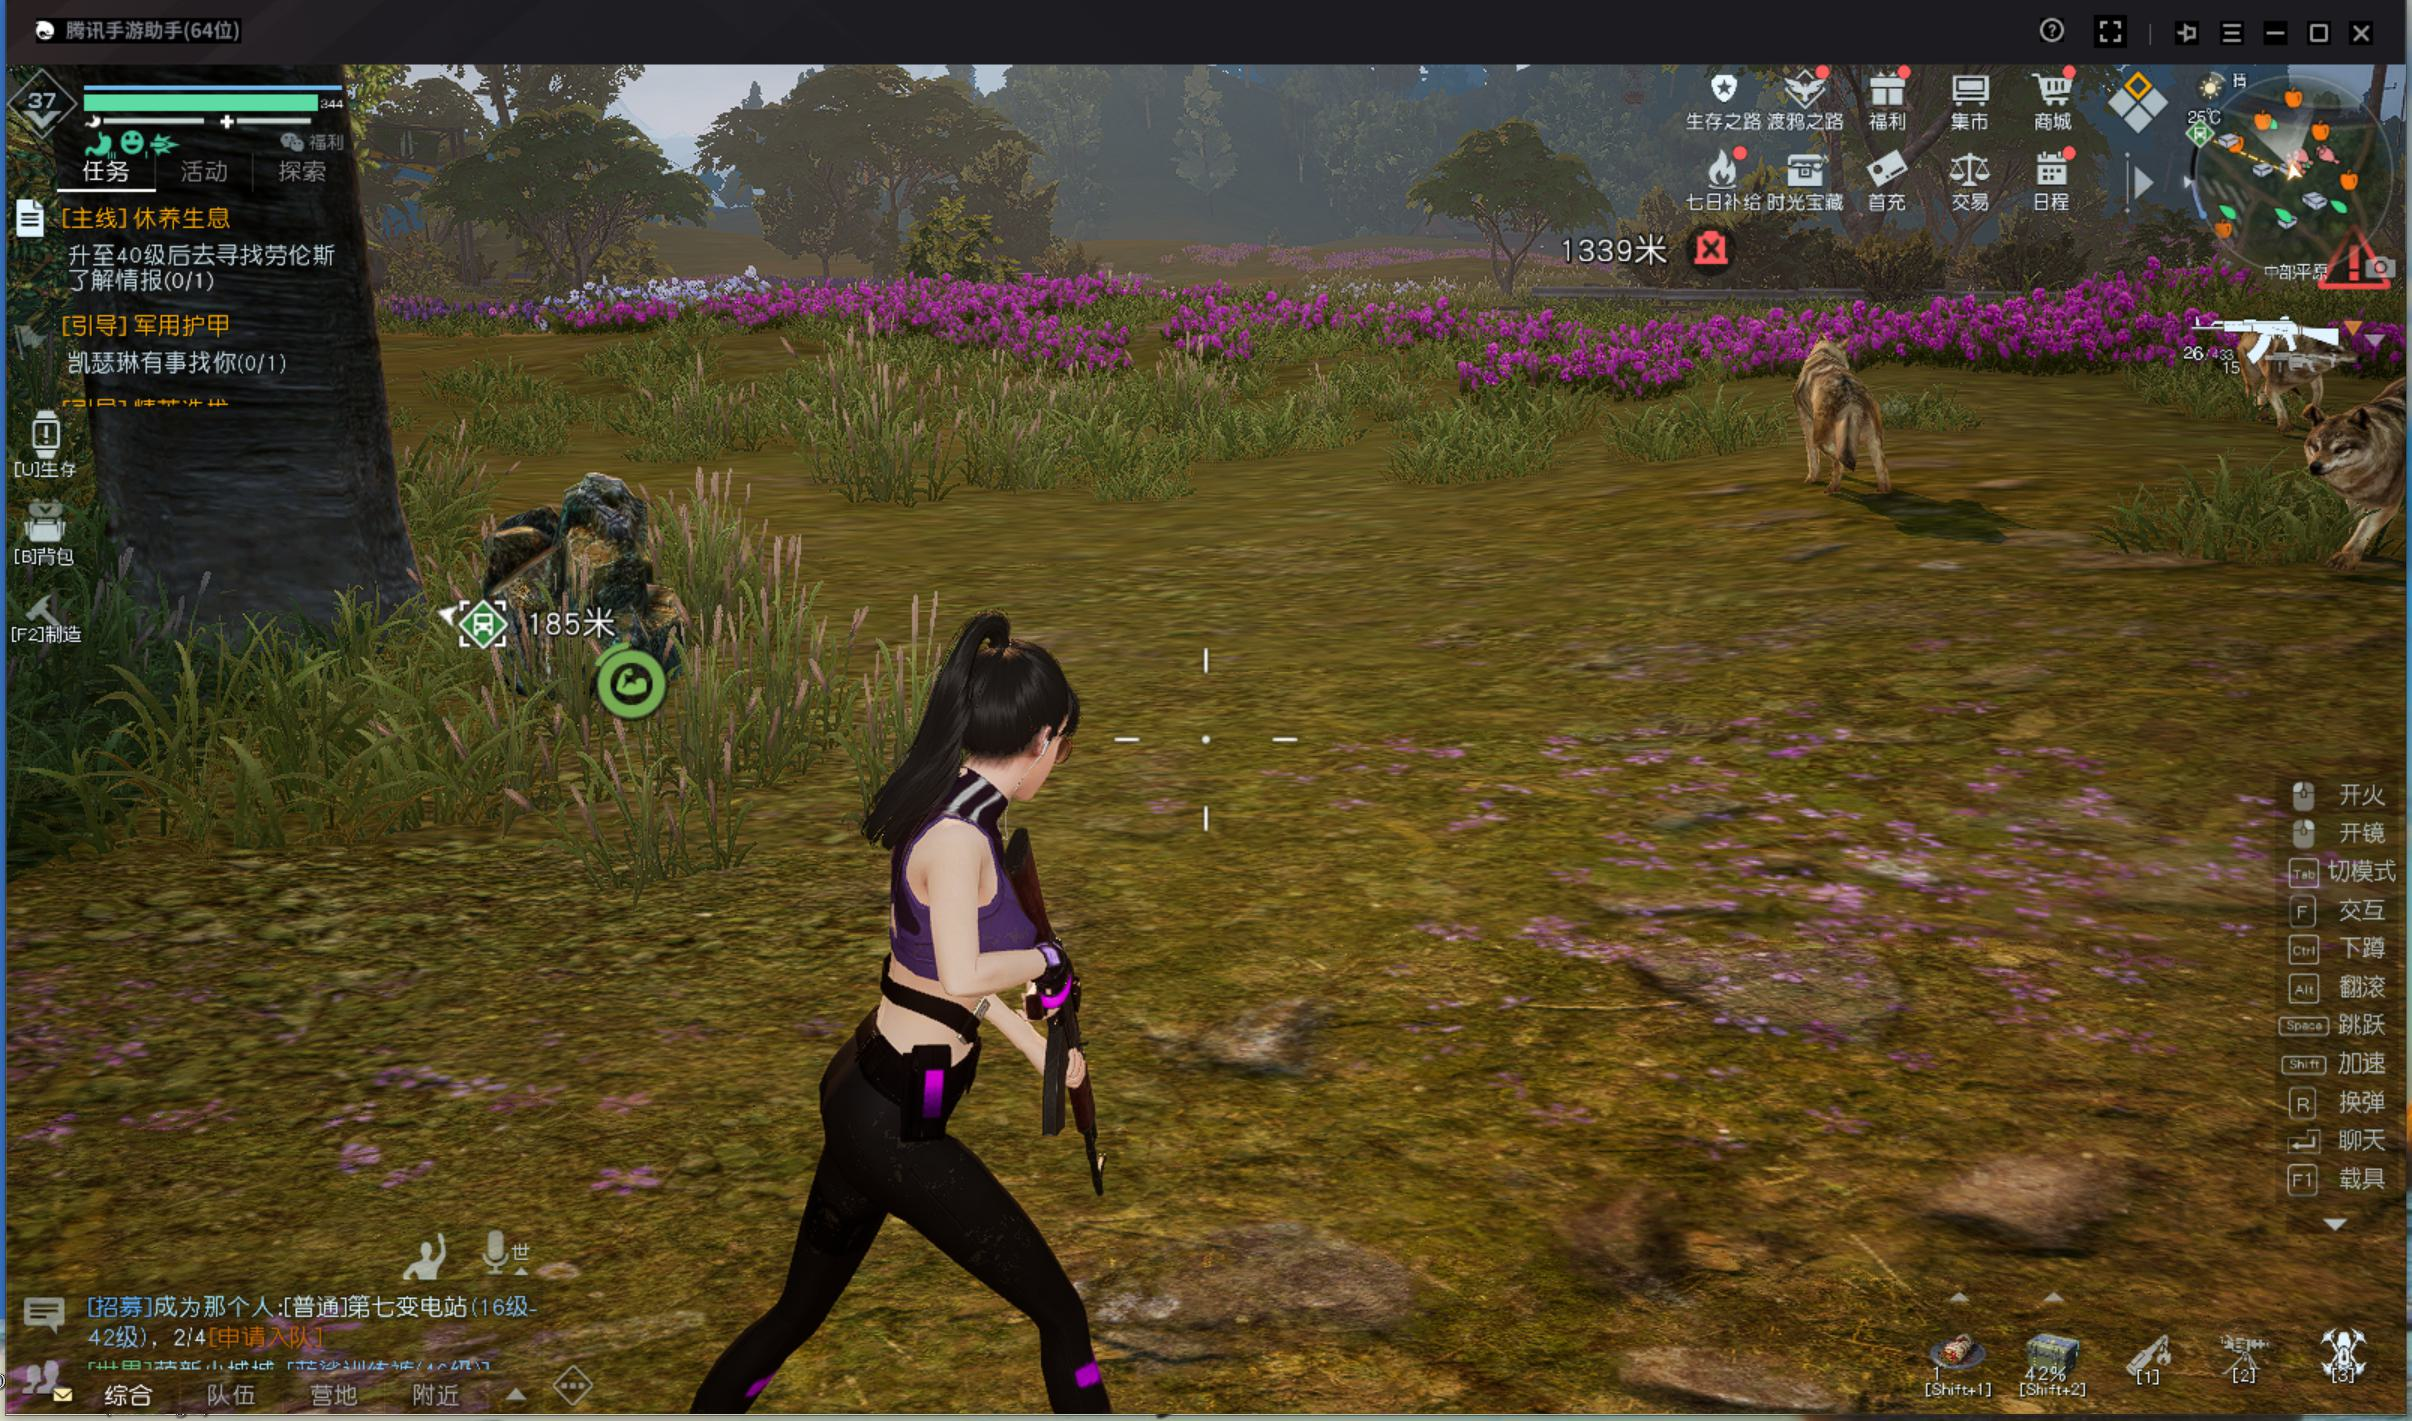stone: (462, 470, 714, 665)
